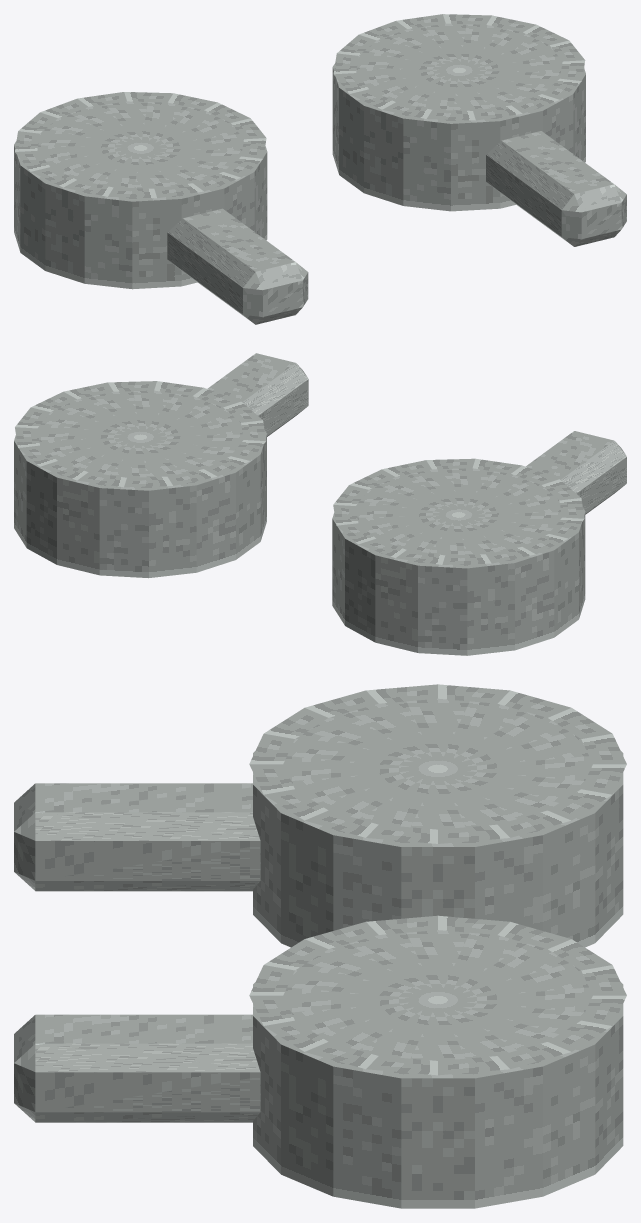
Rendered from cufflinks.glb.
3 renders of one model, top to bottom at view 1: azimuth 30°, elevation 25°; view 2: azimuth 150°, elevation 25°; view 3: azimuth 270°, elevation 25°, orthographic. The views are drawn at different scales.
Parts seen in each view (by area): view 1: block_metal disc (×2), block_cufflink pin (×2), block_raised border 4 (×2), block_raised border 5 (×2), block_raised border 12 (×2), block_raised border 13 (×2), block_raised border 14 (×2), block_raised border 6 (×2), block_raised border 3 (×2), block_raised border 7 (×2), block_raised border 11 (×2), block_raised border 15 (×2) (+6 smaller); view 2: block_metal disc (×2), block_cufflink pin (×2), block_raised border 10 (×2), block_raised border 2 (×2), block_raised border 1 (×2), block_raised border 3 (×2), block_raised border 11 (×2), block_raised border 9 (×2), block_raised border 12 (×2), block_raised border 4 (×2), block_raised border 8 (×2), block_raised border 0 (×2) (+6 smaller); view 3: block_metal disc (×2), block_cufflink pin (×2), block_raised border 1 (×2), block_raised border 9 (×2), block_raised border 6 (×2), block_raised border 11 (×2), block_raised border 4 (×2), block_raised border 8 (×2), block_raised border 7 (×2), block_raised border 14 (×2), block_raised border 0 (×2), block_raised border 15 (×2) (+6 smaller).
Part boxes in pixels (<box>): block_metal disc (×2): <box>14,23,585,289</box>; block_cufflink pin (×2): <box>167,131,626,324</box>; block_raised border 4 (×2): <box>154,105,522,198</box>; block_raised border 5 (×2): <box>108,109,475,198</box>; block_raised border 12 (×2): <box>77,14,445,106</box>; block_raised border 13 (×2): <box>124,14,491,102</box>; block_raised border 14 (×2): <box>168,15,535,109</box>; block_raised border 6 (×2): <box>64,102,431,196</box>; block_raised border 3 (×2): <box>193,94,559,191</box>; block_raised border 7 (×2): <box>31,89,395,187</box>; block_raised border 11 (×2): <box>40,21,406,117</box>; block_raised border 15 (×2): <box>204,24,568,122</box>; block_metal disc (×2): <box>14,390,585,655</box>; block_cufflink pin (×2): <box>207,353,626,514</box>; block_raised border 10 (×2): <box>124,476,491,564</box>; block_raised border 2 (×2): <box>108,381,475,469</box>; block_raised border 1 (×2): <box>64,382,431,476</box>; block_raised border 3 (×2): <box>154,381,521,473</box>; block_raised border 11 (×2): <box>77,472,445,564</box>; block_raised border 9 (×2): <box>168,469,535,563</box>; block_raised border 12 (×2): <box>40,461,406,557</box>; block_raised border 4 (×2): <box>193,388,558,484</box>; block_raised border 8 (×2): <box>204,456,567,554</box>; block_raised border 0 (×2): <box>31,391,394,489</box>; block_metal disc (×2): <box>253,698,623,1208</box>; block_cufflink pin (×2): <box>14,783,260,1122</box>; block_raised border 1 (×2): <box>305,810,378,1069</box>; block_raised border 9 (×2): <box>497,690,571,949</box>; block_raised border 6 (×2): <box>305,690,378,949</box>; block_raised border 11 (×2): <box>581,733,626,995</box>; block_raised border 4 (×2): <box>249,733,294,995</box>; block_raised border 8 (×2): <box>438,684,509,934</box>; block_raised border 7 (×2): <box>366,684,437,934</box>; block_raised border 14 (×2): <box>498,810,570,1069</box>; block_raised border 0 (×2): <box>366,824,437,1075</box>; block_raised border 15 (×2): <box>438,824,509,1075</box>.
Bounding box in the file's own units: 0.0285 × 0.00458 × 0.0189.
Materials: 1 (1 with a texture image).
